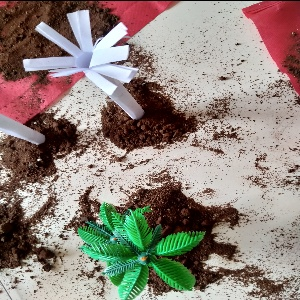plant: (71, 195, 205, 296)
weed: (22, 15, 133, 112)
